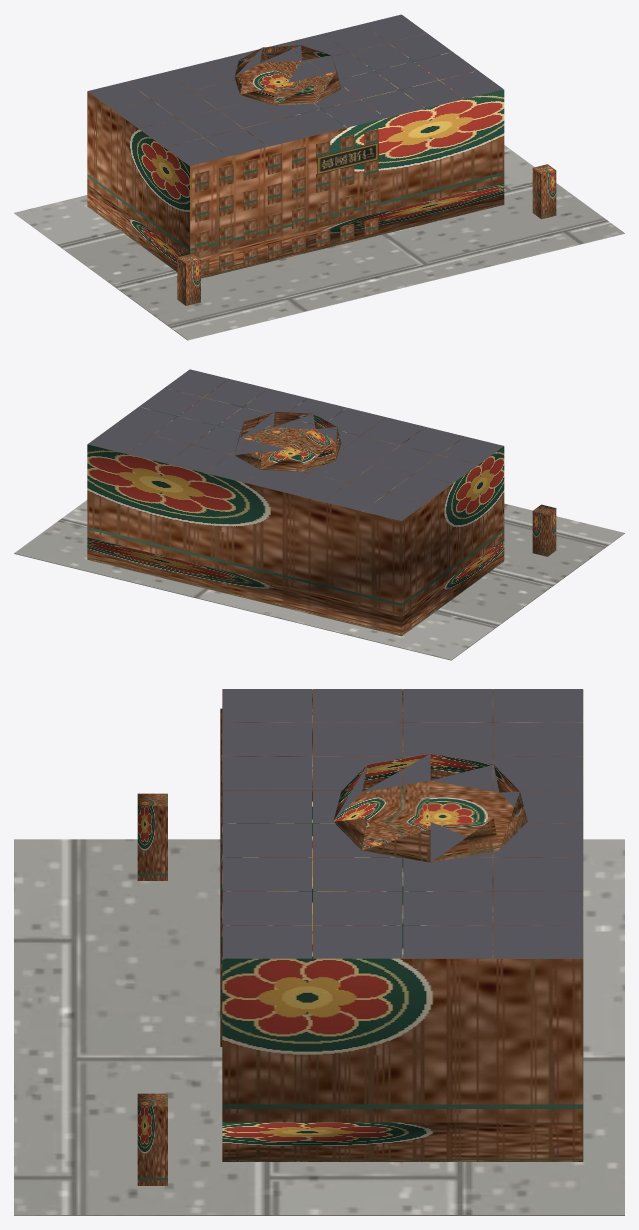
3 views of the same model, one above another, from view 1: azimuth 30°, elevation 25°; view 2: azimuth 150°, elevation 25°; view 3: azimuth 270°, elevation 25° (orthographic). The views are drawn at different scales.
Parts seen in each view (by area): view 1: 11140_02_04533_014_02_L2__body, 11140_02_04533_014_01_L2__base, 11140_02_04533_014_03_L2__roof, 11140_02_04533_014_05_L2__openings, 11140_02_04533_014_06_L2__green, 11140_02_04533_014_04_L2__sign; view 2: 11140_02_04533_014_02_L2__body, 11140_02_04533_014_03_L2__roof, 11140_02_04533_014_01_L2__base, 11140_02_04533_014_06_L2__green; view 3: 11140_02_04533_014_01_L2__base, 11140_02_04533_014_02_L2__body, 11140_02_04533_014_03_L2__roof, 11140_02_04533_014_06_L2__green, 11140_02_04533_014_05_L2__openings.
Part boxes in pixels (x1,y1,x2,y2): 11140_02_04533_014_02_L2__body: (87,24,504,278); 11140_02_04533_014_01_L2__base: (14,145,624,340); 11140_02_04533_014_03_L2__roof: (88,14,503,165); 11140_02_04533_014_05_L2__openings: (195,129,378,275); 11140_02_04533_014_06_L2__green: (177,164,556,305); 11140_02_04533_014_04_L2__sign: (317,142,378,174); 11140_02_04533_014_02_L2__body: (87,379,504,636); 11140_02_04533_014_03_L2__roof: (88,369,503,520); 11140_02_04533_014_01_L2__base: (14,500,624,660); 11140_02_04533_014_06_L2__green: (532,504,556,556); 11140_02_04533_014_01_L2__base: (14,839,624,1215); 11140_02_04533_014_02_L2__body: (222,689,583,1161); 11140_02_04533_014_03_L2__roof: (222,689,582,958); 11140_02_04533_014_06_L2__green: (137,793,167,1185); 11140_02_04533_014_05_L2__openings: (220,708,222,1046).
Size of the model in its own units: 64 by 18.8 by 44.
5 materials, 5 textured.
